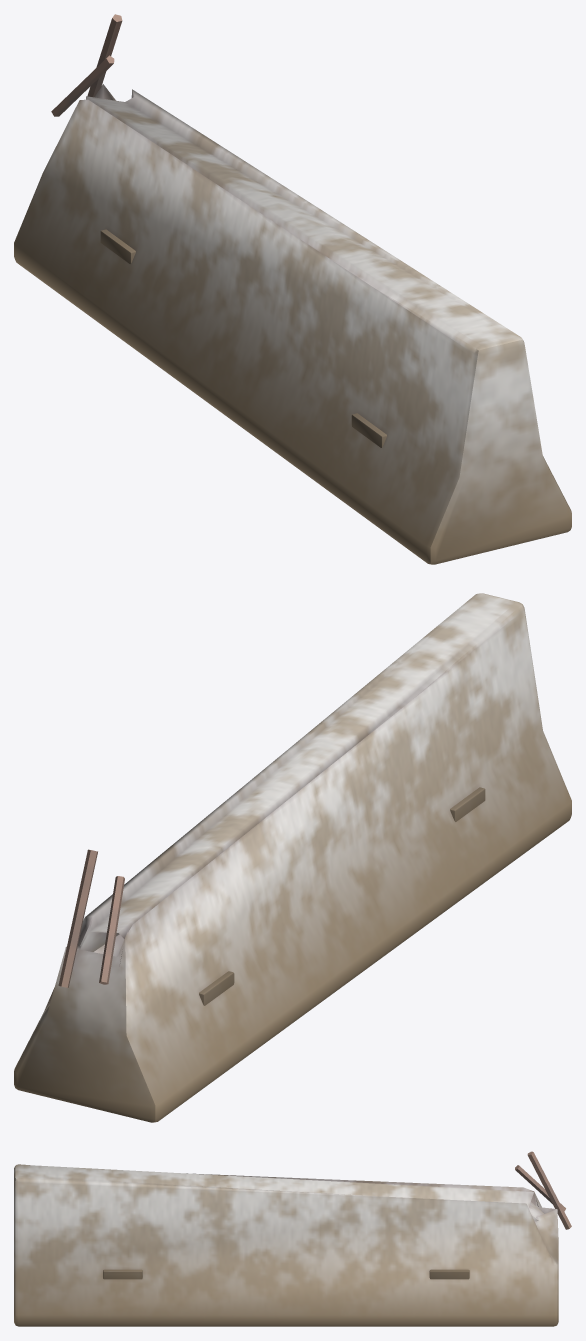
The model's file is concrete_barrier.glb.
3 views of the same model, one above another, from view 1: azimuth 30°, elevation 25°; view 2: azimuth 150°, elevation 25°; view 3: azimuth 270°, elevation 25° (orthographic). The views are drawn at different scales.
Visible parts, largest first — view 1: ConcreteBarrier; view 2: ConcreteBarrier; view 3: ConcreteBarrier.
Boxes of the visible parts, bbox=[...] form: ConcreteBarrier: bbox=[14, 14, 571, 564]; ConcreteBarrier: bbox=[14, 593, 571, 1122]; ConcreteBarrier: bbox=[14, 1151, 571, 1326].
Size of the model in its own units: 0.6 by 0.955 by 3.07.
2 materials, 2 textured.
